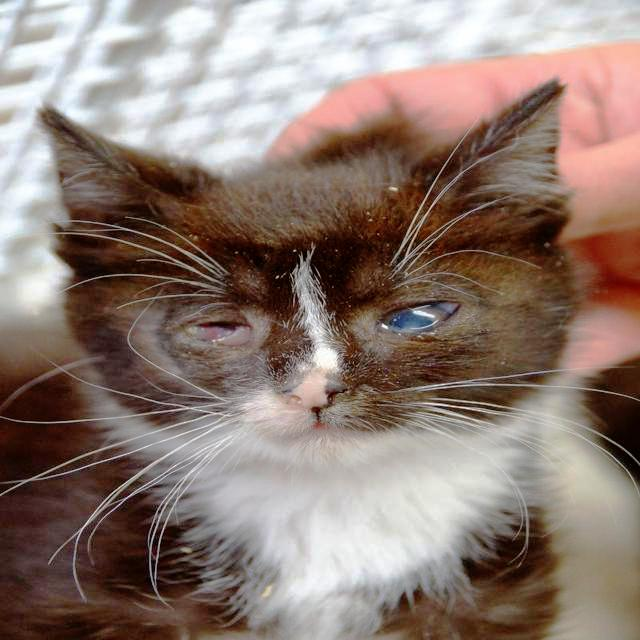eye_infection: (176, 310, 271, 359)
